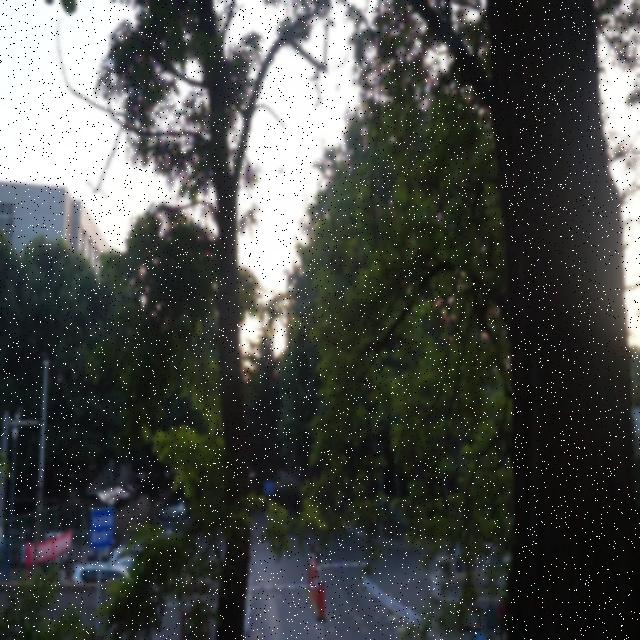UAV: (278, 168, 283, 173)
